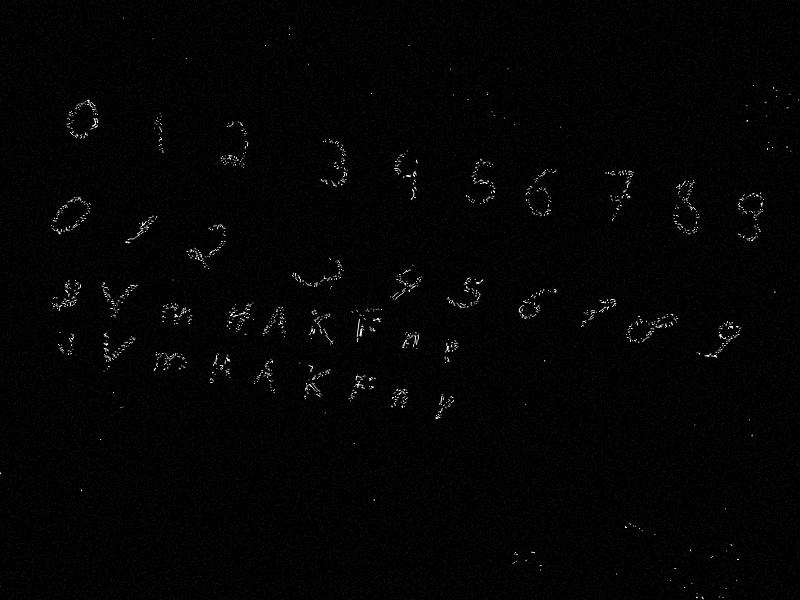0: (47, 189, 96, 241), (61, 95, 103, 143)
1: (117, 206, 162, 250), (144, 108, 171, 155)
2: (181, 219, 230, 274), (215, 116, 256, 173)
3: (288, 248, 348, 294), (312, 135, 355, 190)
4: (385, 147, 425, 205), (384, 261, 428, 305)
5: (460, 155, 502, 209), (443, 272, 487, 312)
6: (519, 162, 562, 222), (514, 282, 560, 326)
7: (592, 164, 639, 225), (575, 291, 619, 335)
8: (620, 297, 682, 353), (665, 174, 708, 240)
9: (691, 314, 746, 368), (729, 186, 769, 247)
A: (252, 355, 280, 396), (262, 302, 291, 341)
F: (346, 371, 378, 409), (353, 311, 383, 350)
H: (224, 297, 256, 336), (208, 349, 234, 387)
V: (94, 329, 139, 379), (94, 277, 140, 322)
k: (300, 361, 334, 404), (303, 307, 339, 347)
m: (155, 300, 197, 332), (150, 348, 191, 379)
n: (387, 385, 410, 412), (400, 328, 422, 355)
p: (432, 391, 456, 425), (440, 336, 461, 367)
u: (43, 273, 86, 320), (52, 327, 80, 359)
